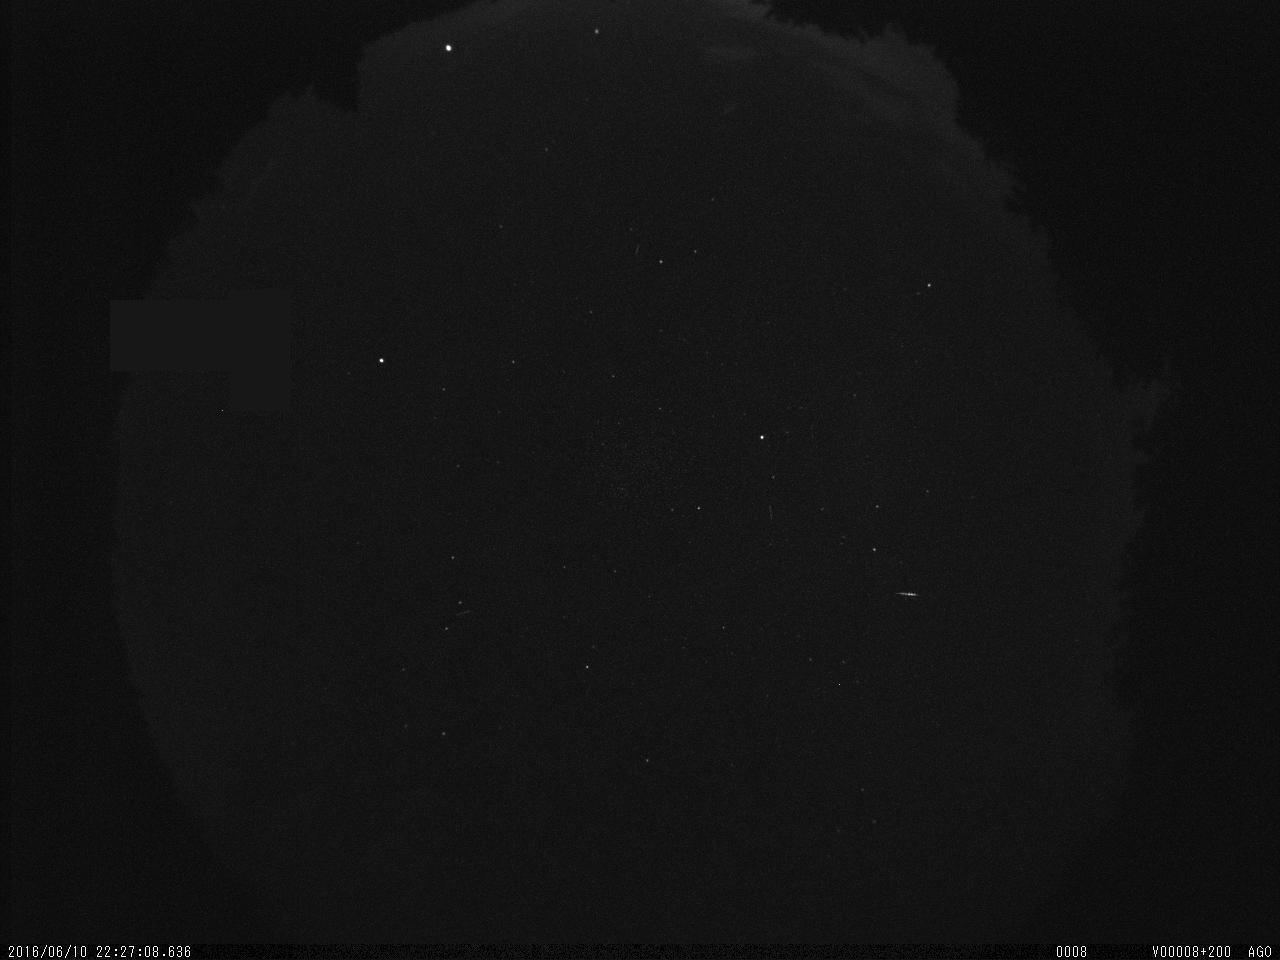Meteor: (894, 588, 920, 598)
